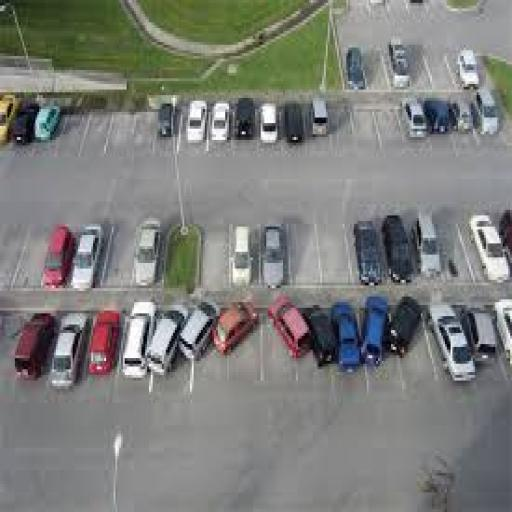Illegal-parking: (354, 287, 407, 392), (382, 294, 440, 386), (178, 296, 232, 389), (220, 298, 270, 392), (302, 291, 346, 386), (266, 293, 316, 375), (148, 302, 192, 392)
Slot-empty: (18, 298, 58, 406), (306, 212, 360, 285), (429, 212, 479, 285), (196, 214, 238, 298), (54, 305, 89, 405), (281, 214, 328, 286), (75, 91, 116, 169), (103, 92, 142, 167), (364, 97, 411, 157), (340, 97, 388, 155), (105, 212, 138, 294), (16, 220, 46, 292), (420, 45, 459, 98), (62, 100, 93, 160), (132, 91, 160, 155), (358, 46, 395, 94)
Slot-occupied: (422, 296, 480, 399), (85, 296, 127, 412), (70, 205, 114, 297), (118, 292, 154, 399), (340, 216, 386, 288), (256, 212, 295, 293), (224, 219, 264, 291), (38, 226, 76, 296), (182, 87, 212, 169)
